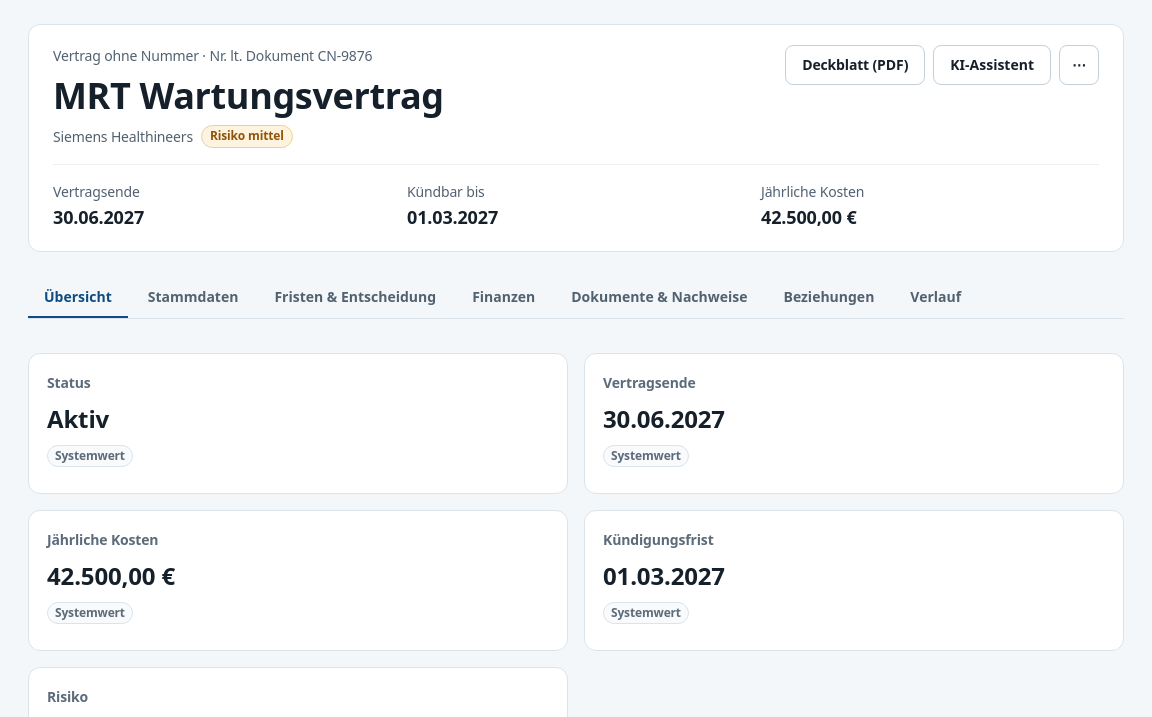
Test: Vertrags-Detail + Quellenanzeige (tabbed Contract Workspace) › zeigt die Quelldokumente und lädt den PDF-Viewer
Expected: the heading "MRT Wartungsvertrag" is shown, [53,71,444,120]
What coordinates should you click on to do the following:
click the tab "Dokumente & Nachweise"
I would click on:
 (659, 298)
Its box is [555,278,764,318].
(page scrolled)
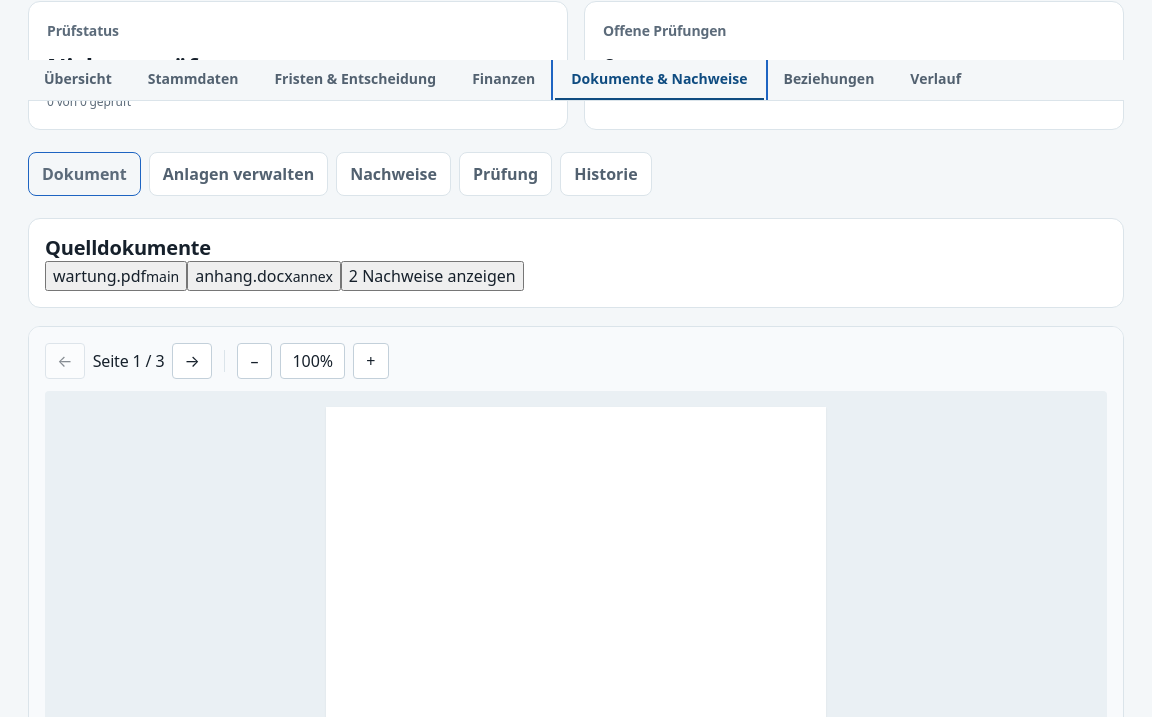
Now the button "wartung.pdf" is shown, box [45,261,187,291]
Now the button "anhang.docx" is shown, box [187,261,341,291]
Now the element named "PDF-Ansicht steuern" is shown, box [45,343,388,379]
